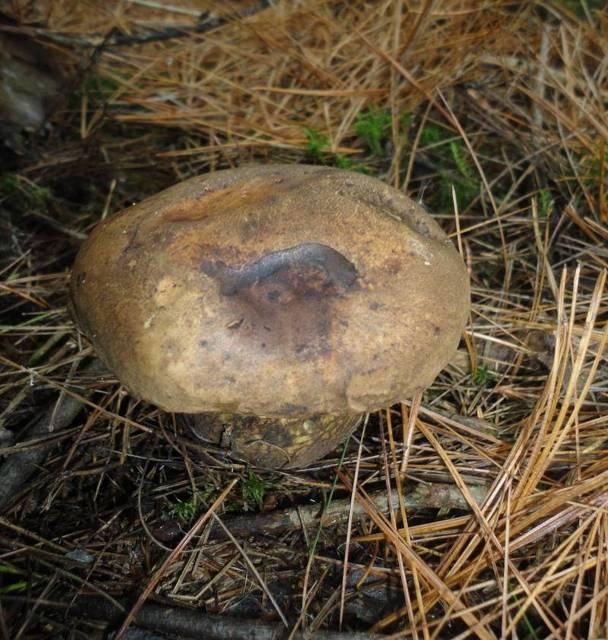Non-edible Mushroom: (66, 160, 473, 473)
